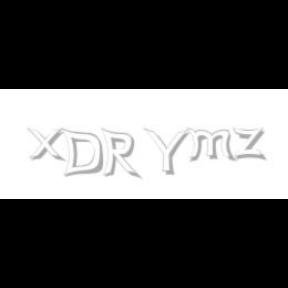D: (60, 128, 104, 178)
R: (101, 128, 139, 180)
Y: (143, 128, 189, 176)
m: (186, 128, 238, 162)
x: (27, 128, 69, 162)
z: (232, 128, 268, 160)
